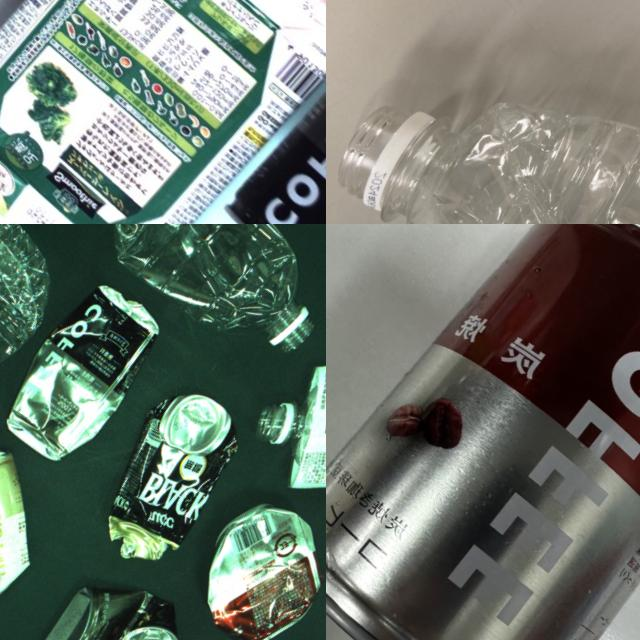Aluminium Foil: (0, 0, 326, 224)
Can: (326, 224, 640, 640), (66, 371, 261, 576), (0, 266, 177, 471), (176, 481, 326, 640), (219, 25, 326, 224), (0, 416, 82, 626), (22, 554, 203, 640)
Transparent Plastic Bottle: (326, 0, 640, 224), (97, 224, 326, 378), (0, 224, 81, 541), (251, 290, 326, 531)
